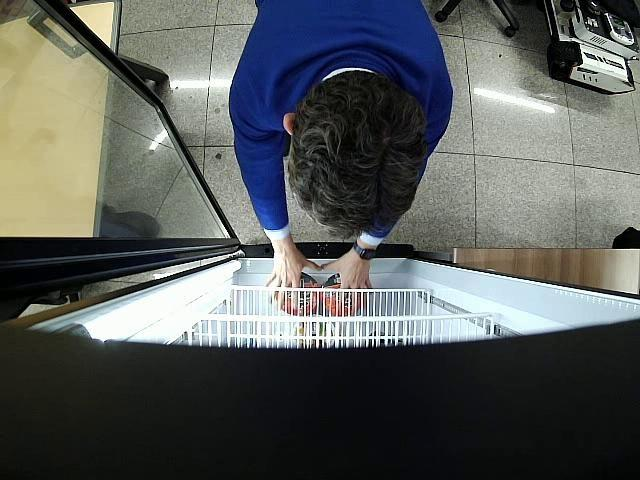01_ShinRamen_L: (274, 272, 318, 316), (320, 274, 358, 316)
